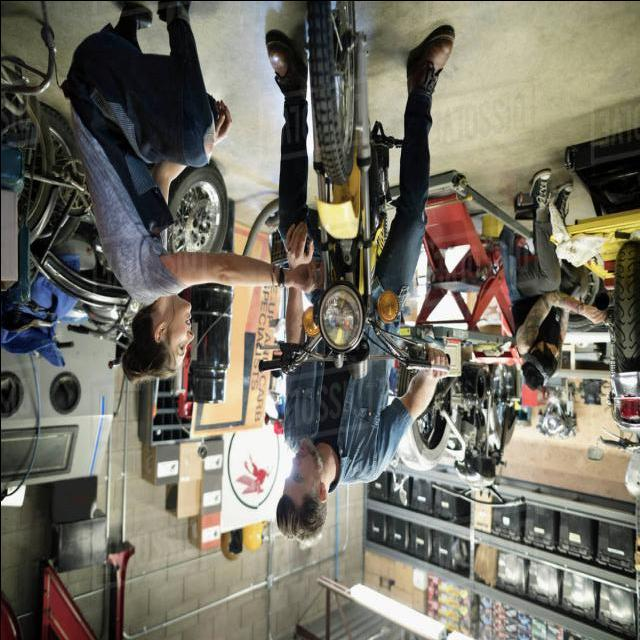motorcycle: (233, 3, 458, 547)
